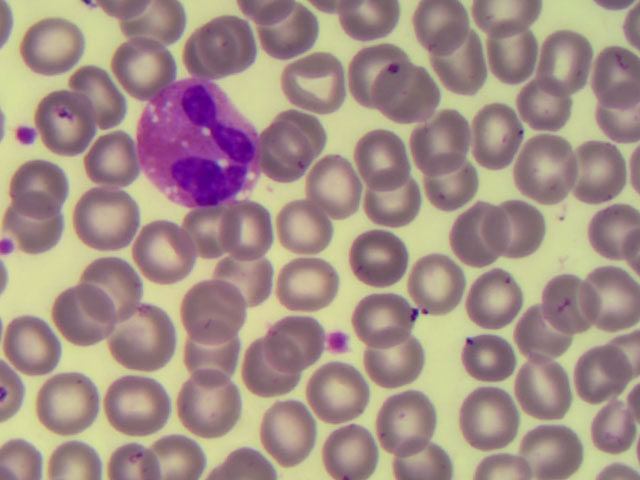Platelets: (330, 331, 349, 350), (18, 125, 33, 144), (1, 242, 17, 255)
RBC: (324, 415, 383, 480), (138, 415, 197, 480), (524, 415, 583, 480), (24, 14, 83, 78), (73, 62, 132, 126), (34, 94, 93, 158), (77, 129, 136, 193), (85, 183, 144, 247), (9, 156, 68, 220), (19, 194, 78, 258), (85, 248, 144, 312), (52, 281, 111, 345), (14, 308, 73, 372), (45, 381, 104, 445), (106, 378, 165, 442), (117, 302, 176, 366), (138, 224, 197, 288), (167, 201, 226, 265), (201, 200, 260, 264), (266, 196, 325, 260), (251, 129, 310, 193), (266, 103, 325, 167), (293, 41, 352, 105), (209, 12, 268, 76), (175, 16, 234, 80), (122, 34, 181, 98), (271, 2, 330, 66), (339, 30, 398, 94), (376, 69, 435, 133), (432, 39, 491, 103), (408, 3, 467, 67), (486, 26, 545, 90), (529, 22, 588, 86), (520, 80, 579, 144), (458, 99, 517, 163), (421, 109, 480, 173), (431, 150, 490, 214), (361, 170, 420, 234), (342, 131, 401, 195), (306, 160, 365, 224), (351, 228, 410, 292), (353, 283, 412, 347), (365, 323, 424, 387), (381, 378, 440, 442), (311, 360, 370, 424), (262, 396, 321, 460), (240, 335, 299, 399), (272, 305, 331, 369), (278, 245, 337, 309), (221, 254, 280, 318), (180, 271, 239, 335), (181, 326, 240, 390), (177, 378, 236, 442), (459, 386, 518, 450), (458, 324, 517, 388), (460, 270, 519, 334), (410, 256, 469, 320), (435, 209, 494, 273), (491, 193, 550, 257), (513, 149, 572, 213), (555, 134, 614, 198), (581, 203, 640, 267), (581, 252, 640, 316), (547, 270, 606, 334), (517, 295, 576, 359), (510, 360, 569, 424), (581, 392, 640, 456), (581, 343, 640, 407)
WBC: (137, 82, 257, 209)
